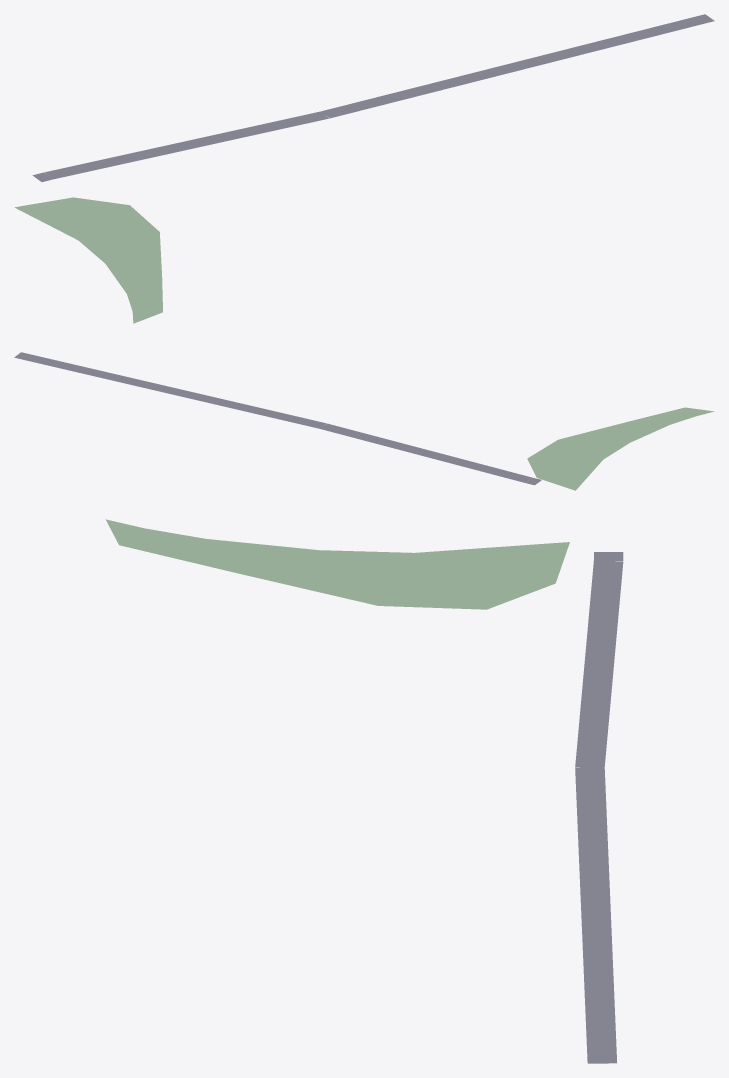
File: 118_129_mid.glb
The picture shows the model from 3 angles, top to bottom: view 1: azimuth 30°, elevation 25°; view 2: azimuth 150°, elevation 25°; view 3: azimuth 270°, elevation 25°; orthographic projection. The views are drawn at different scales.
Bounding box in the file's own units: 470 × 6.63 × 184.
